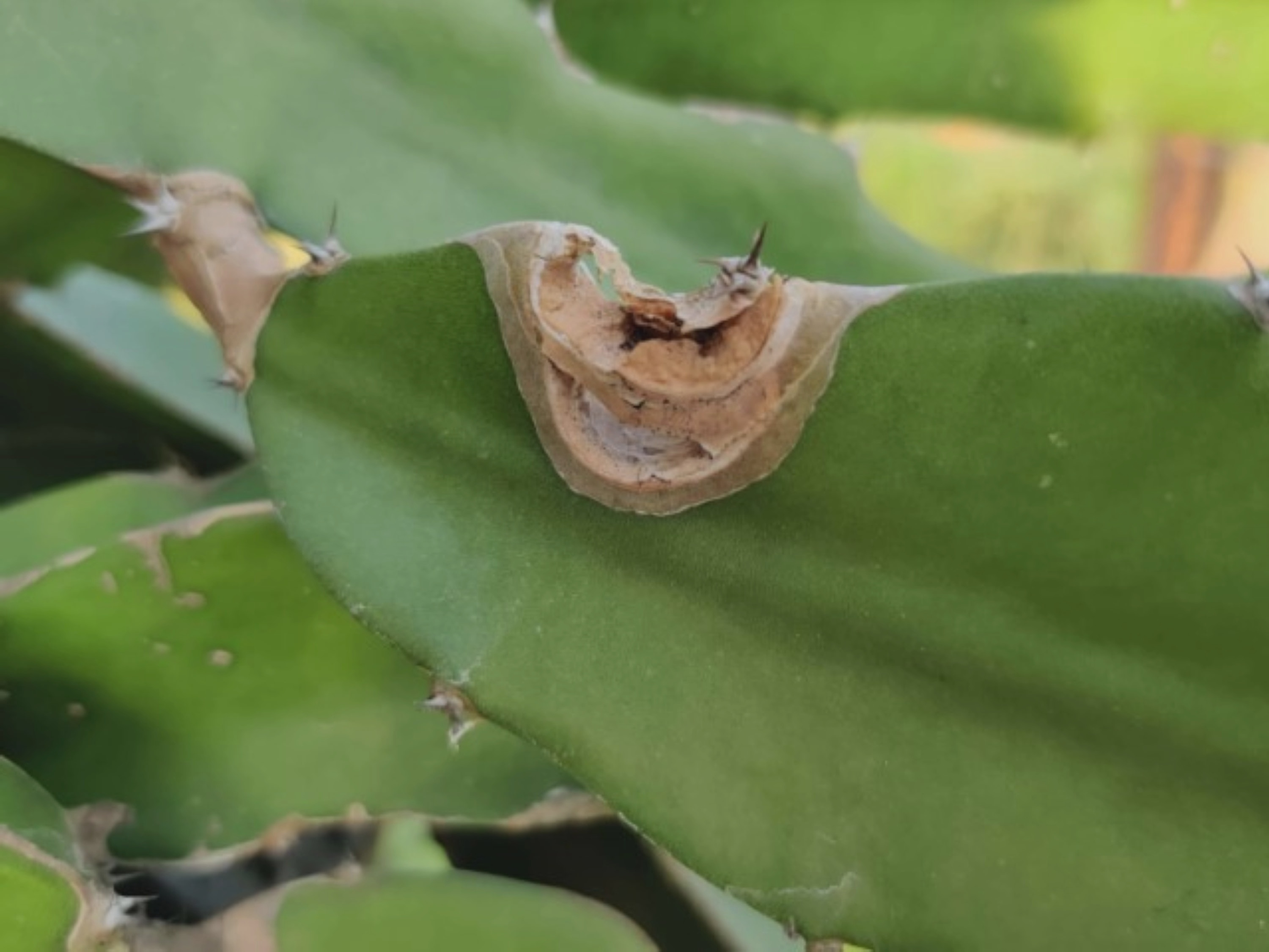stemcanker: (355, 167, 939, 556)
